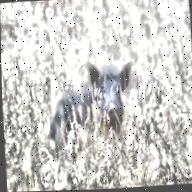boar: (33, 59, 139, 160)
